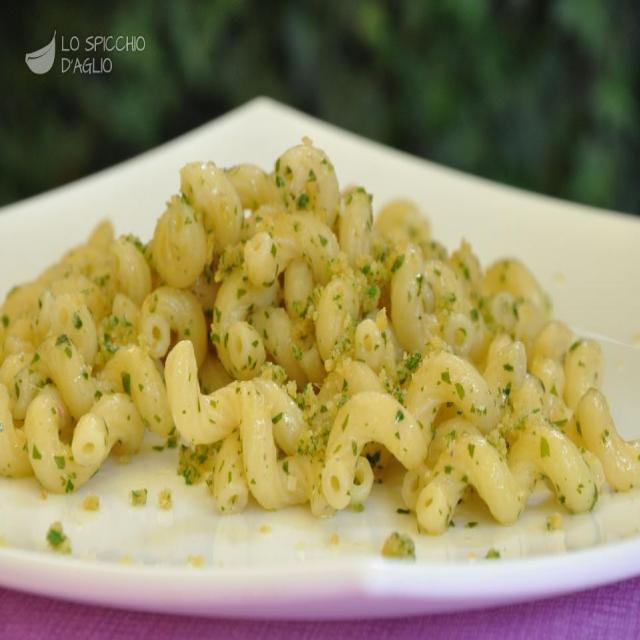Oil pasta: (38, 177, 610, 559)
